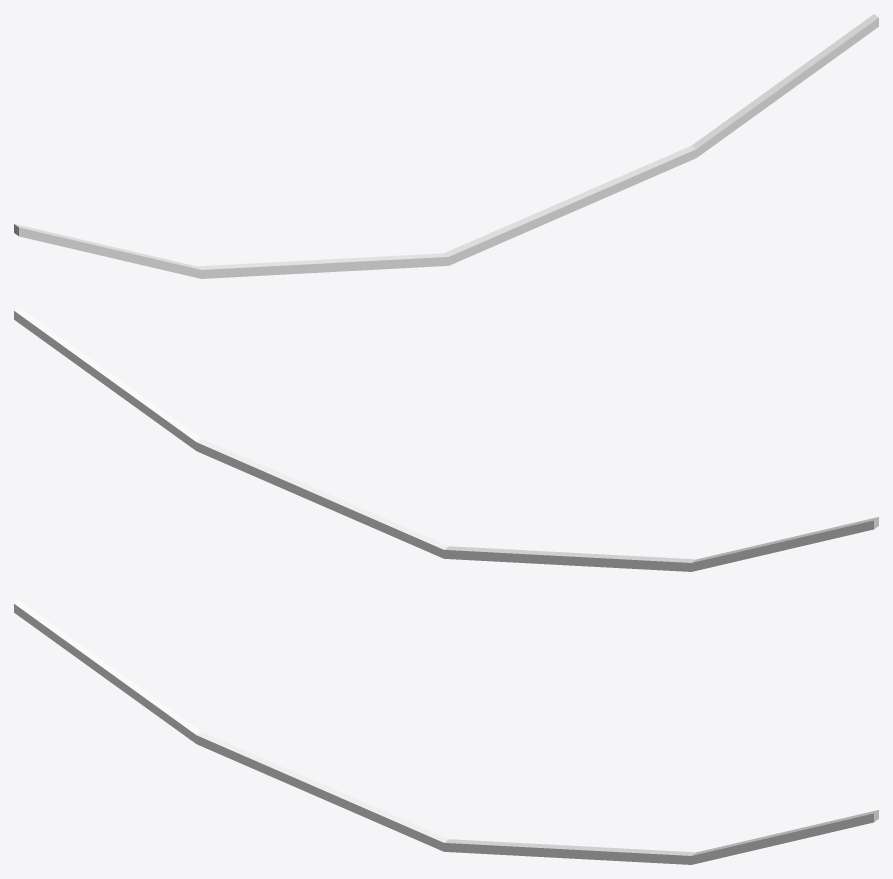
The model's file is SM_Buildings_Part_22.fbx.
3 views of the same model, one above another, from view 1: azimuth 30°, elevation 25°; view 2: azimuth 150°, elevation 25°; view 3: azimuth 330°, elevation 25° (orthographic).
Parts seen in each view (by area): view 1: SM_Buildings_Part_22; view 2: SM_Buildings_Part_22; view 3: SM_Buildings_Part_22.
Boxes of the visible parts, x1,y1,x2,y2 form: SM_Buildings_Part_22: [14, 14, 878, 278]; SM_Buildings_Part_22: [14, 307, 878, 571]; SM_Buildings_Part_22: [14, 600, 878, 864].
Bounding box in the file's own units: 250 × 39.81 × 2.5.
